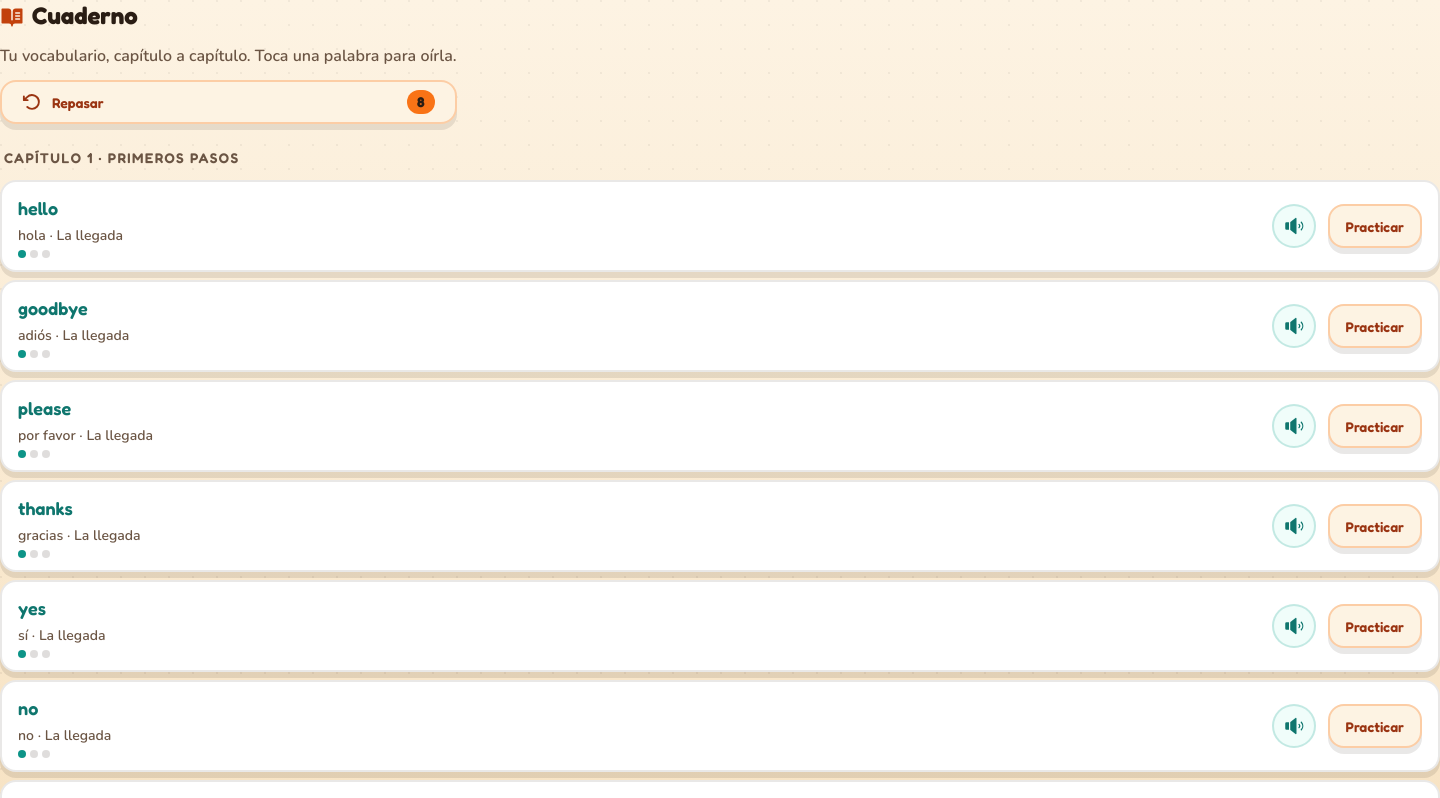
Test: Notebook practice › solving shows Continuar and returns to the list without mutations
What coordinates should you click on to do the following:
click the button with aria-label "Practicar hello"
I would click on:
 (1375, 226)
Its box is [1328,204,1422,248].
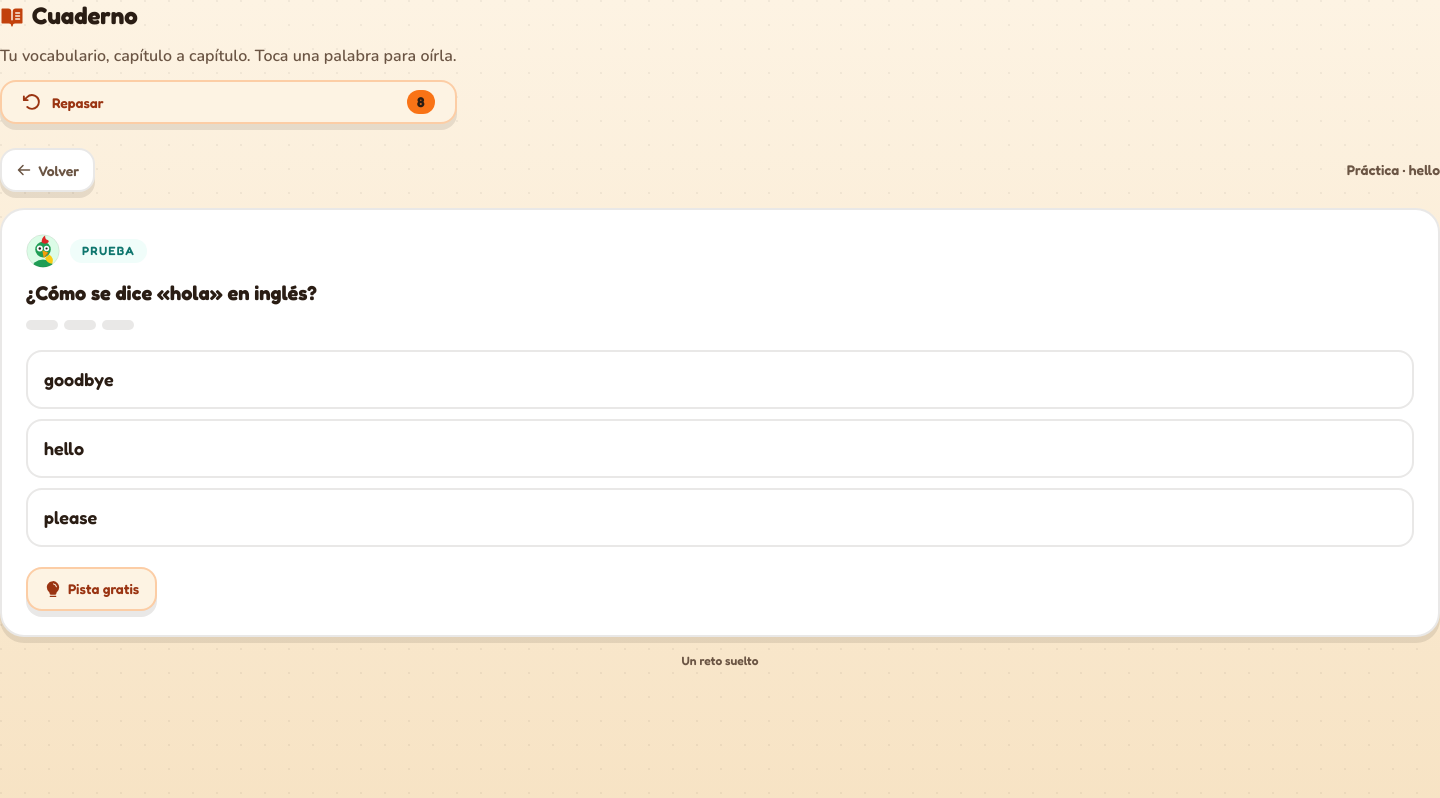
What coordinates should you click on to do the following:
click the button "hello"
I would click on:
 (64, 448)
Its box is [26,418,1414,478].
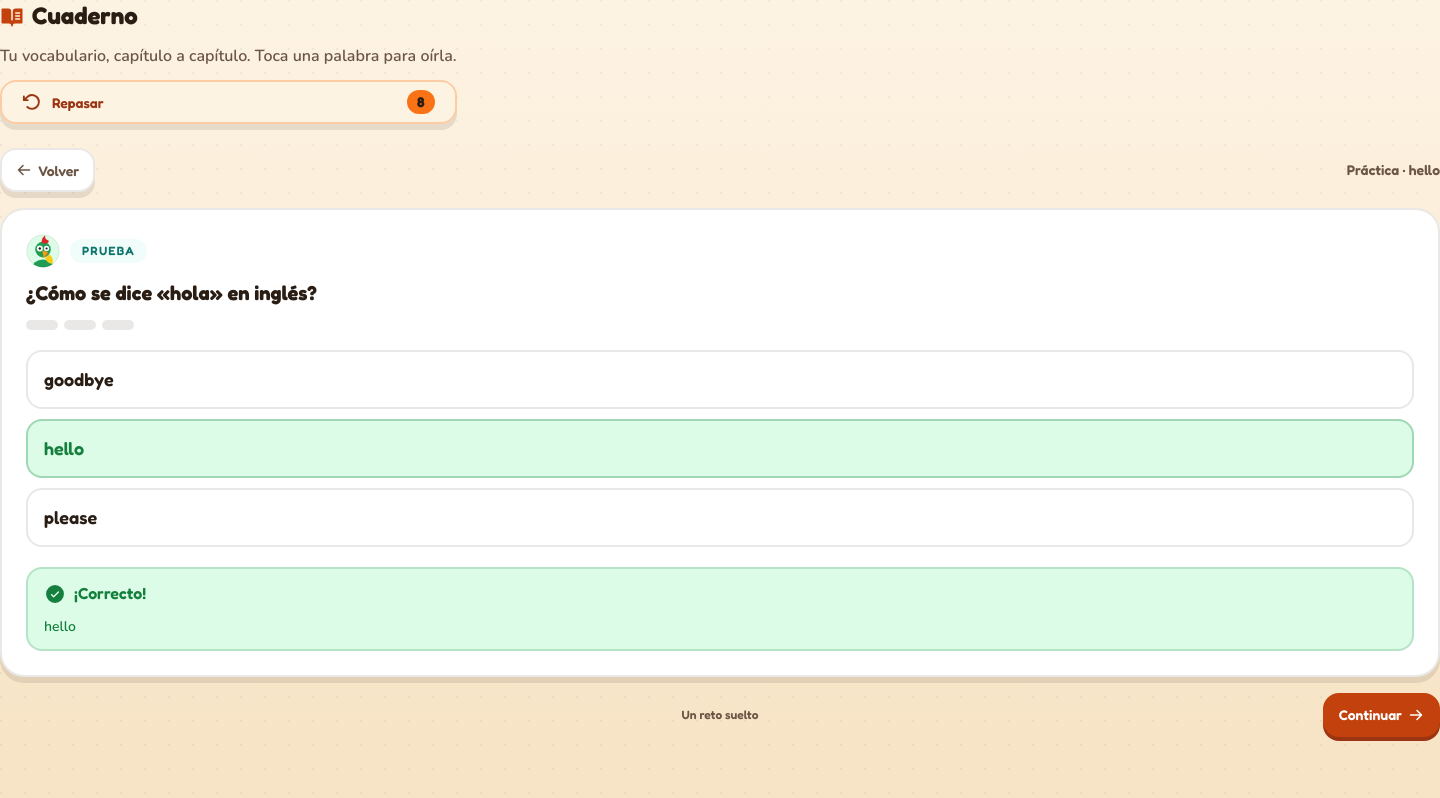
What coordinates should you click on to do the following:
click the button "Continuar"
I would click on:
 (1381, 714)
Its box is [1323,692,1439,736].
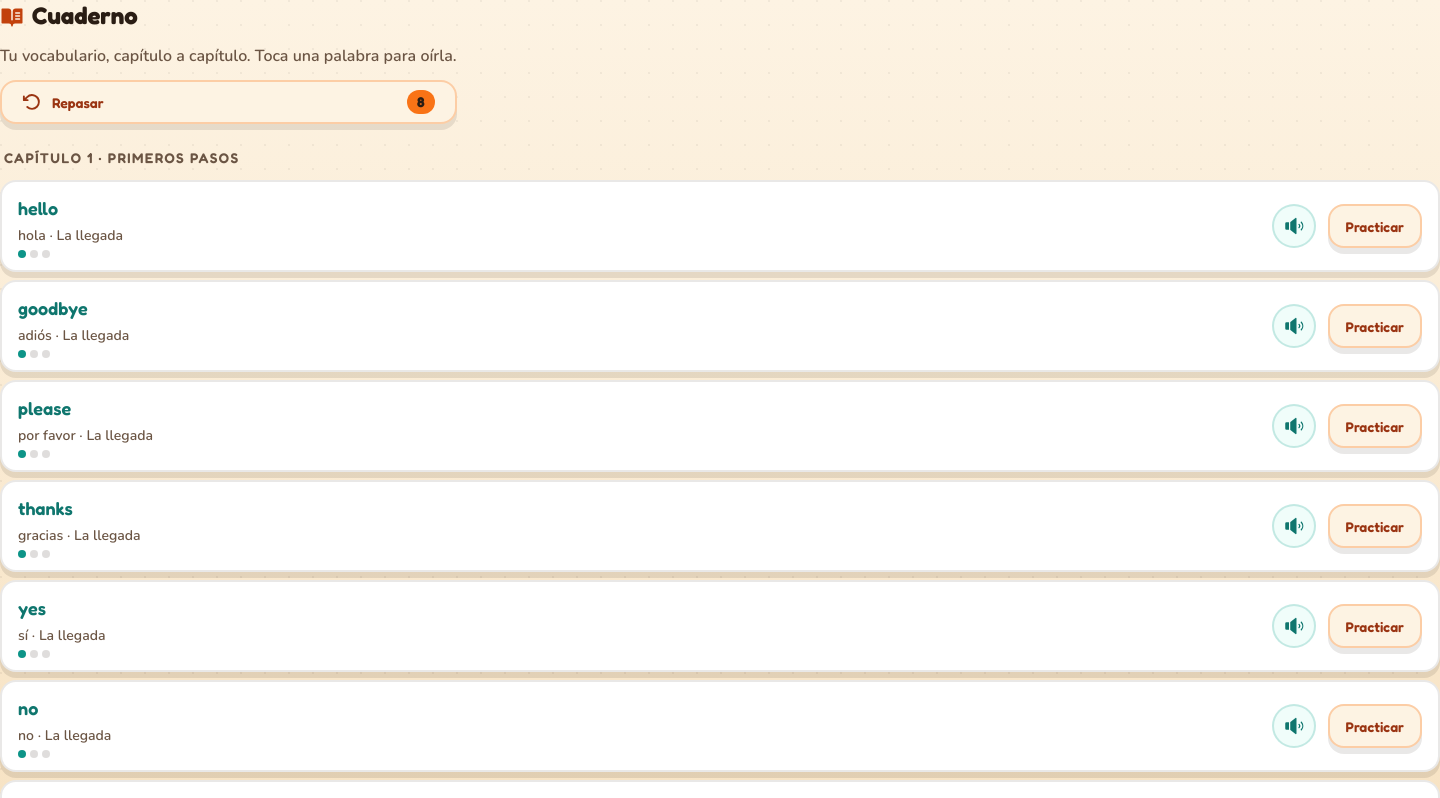
Now the text "hola · La llegada" is shown, box [18,226,123,245]
Now the text "Práctica · hello" is gone
